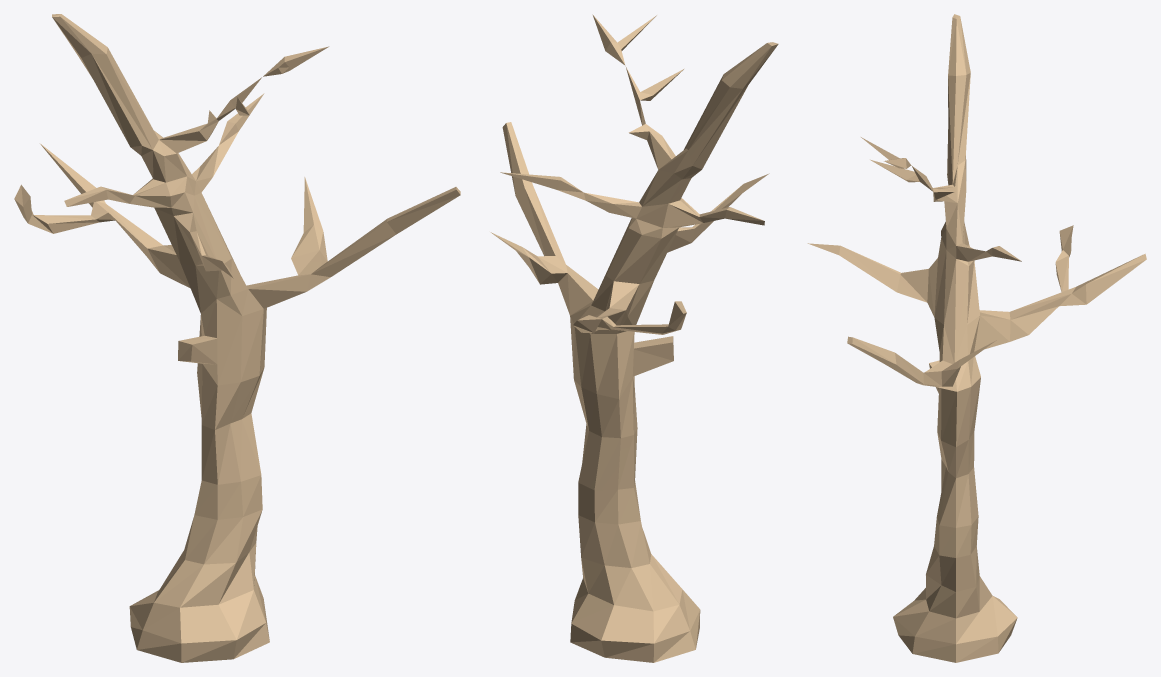
The model's file is Tree_03.fbx.
The picture shows the model from 3 angles, left to right: view 1: azimuth 30°, elevation 25°; view 2: azimuth 150°, elevation 25°; view 3: azimuth 270°, elevation 25°; orthographic projection. The views are drawn at different scales.
Visible parts, largest first — view 1: Tree_03; view 2: Tree_03; view 3: Tree_03.
Part boxes in pixels (left/top/right/bottom): Tree_03: left=14, top=14, right=460, bottom=662; Tree_03: left=490, top=14, right=778, bottom=662; Tree_03: left=807, top=14, right=1146, bottom=662.
Size of the model in its own units: 623 by 1117 by 615.
